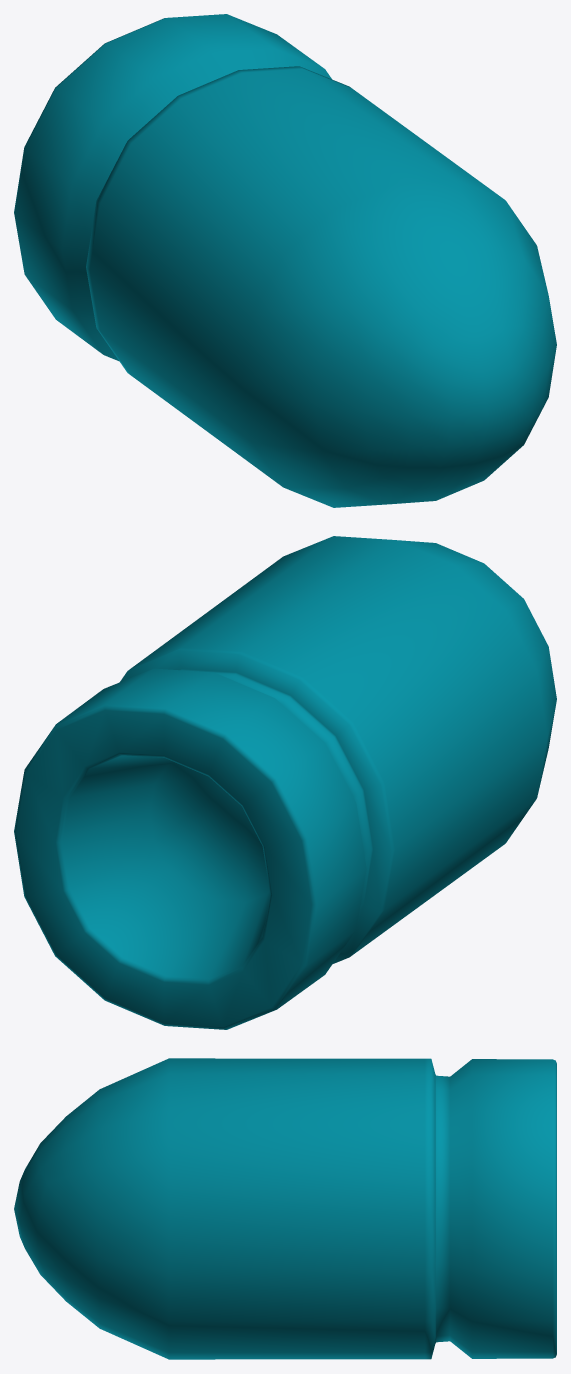
The model's file is bullet.fbx.
3 views of the same model, one above another, from view 1: azimuth 30°, elevation 25°; view 2: azimuth 150°, elevation 25°; view 3: azimuth 270°, elevation 25° (orthographic). The views are drawn at different scales.
Parts seen in each view (by area): view 1: Cube; view 2: Cube; view 3: Cube.
Boxes of the visible parts, x1,y1,x2,y2 form: Cube: (14, 14, 556, 507); Cube: (14, 536, 556, 1029); Cube: (14, 1058, 556, 1359).
Size of the model in its own units: 0.5718 by 0.5718 by 1.04.
